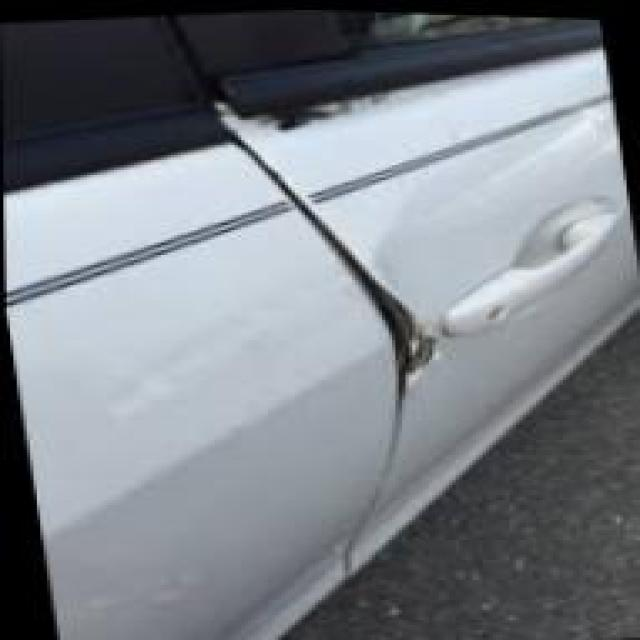Door: (292, 205, 507, 463)
